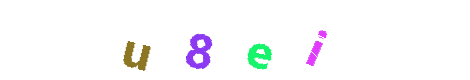8: (195, 0, 275, 80)
E: (195, 0, 275, 80)
I: (219, 0, 299, 80)
U: (96, 0, 176, 80)
